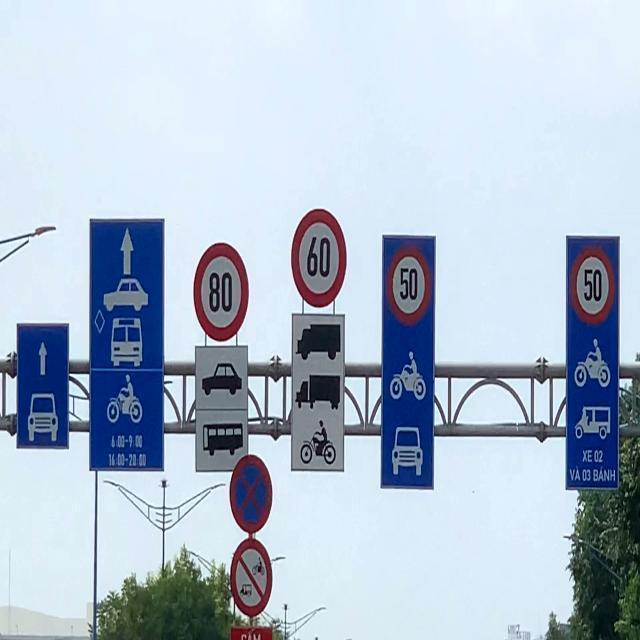127-toc-do-toi-da-50: (570, 249, 617, 323), (387, 245, 431, 324)
127-toc-do-toi-da-60: (290, 202, 350, 306)
127-toc-do-toi-da-80: (194, 242, 252, 342)
130-cam-dung-va-do-xe: (229, 456, 274, 530)
